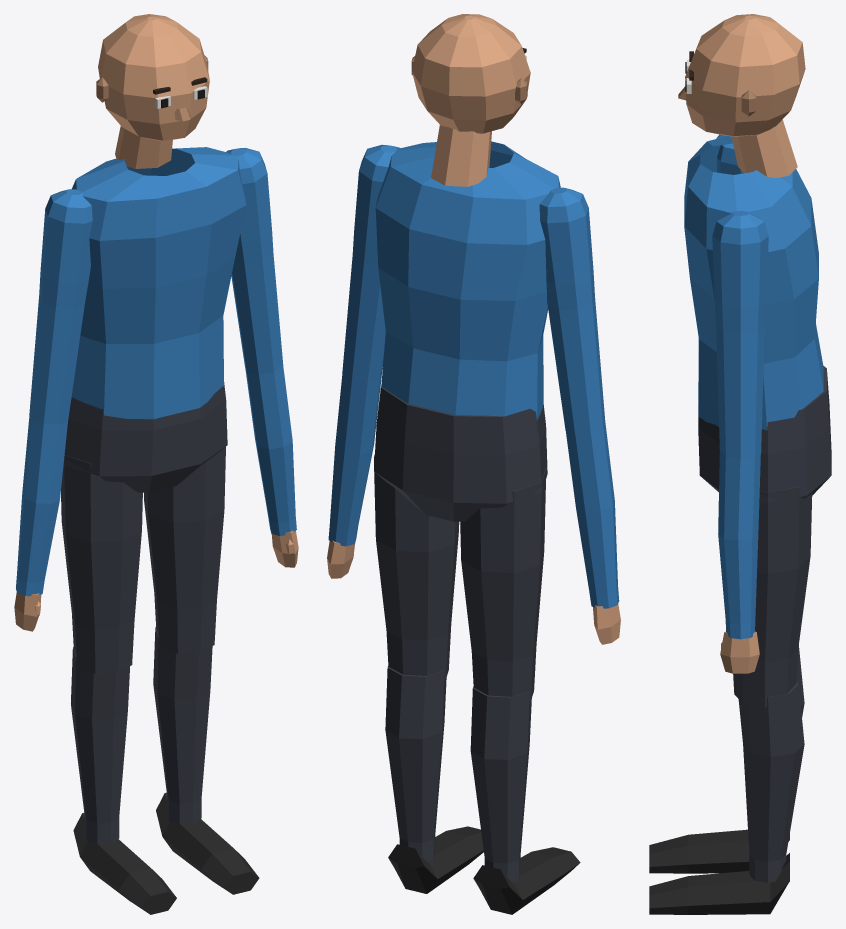
File: senior_h_moyen.glb
3 views of the same model, side by side, from view 1: azimuth 30°, elevation 25°; view 2: azimuth 150°, elevation 25°; view 3: azimuth 270°, elevation 25° (orthographic). The views are drawn at different scales.
Visible parts, largest first — view 1: torse, jambe_d, tete, jambe_g, tibia_d, tibia_g, bassin, bras_d, bras_g, avant_bras_d, avant_bras_g; view 2: torse, bassin, jambe_d, tete, tibia_d, tibia_g, jambe_g, bras_d, avant_bras_d, bras_g, avant_bras_g; view 3: torse, tibia_g, tete, bras_g, jambe_g, avant_bras_g, bassin, tibia_d, bras_d.
Part boxes in pixels (box(x1,y1,x2,y2)): torse: box(71, 147, 246, 419); jambe_d: box(61, 455, 142, 673); tete: box(96, 14, 209, 168); jambe_g: box(144, 447, 225, 653); tibia_d: box(71, 647, 176, 914); tibia_g: box(153, 627, 259, 894); bassin: box(63, 382, 227, 492); bras_d: box(29, 189, 92, 425); bras_g: box(226, 148, 283, 376); avant_bras_d: box(14, 418, 67, 631); avant_bras_g: box(245, 366, 298, 567); torse: box(375, 141, 560, 420); bassin: box(374, 386, 547, 521); jambe_d: box(460, 468, 546, 701); tete: box(411, 14, 530, 186); tibia_d: box(470, 686, 580, 914); tibia_g: box(385, 666, 483, 893); jambe_g: box(374, 454, 459, 680); bras_d: box(539, 187, 605, 434); avant_bras_d: box(566, 422, 620, 644); bras_g: box(342, 144, 400, 382); avant_bras_g: box(327, 371, 382, 578); torse: box(684, 136, 823, 430); tibia_g: box(649, 682, 804, 914); tete: box(678, 14, 805, 178); bras_g: box(712, 211, 768, 460); jambe_g: box(733, 486, 812, 707); avant_bras_g: box(718, 451, 760, 673); bassin: box(698, 366, 831, 503); tibia_d: box(649, 645, 804, 873); bras_d: box(716, 134, 743, 174).
Size of the model in its own units: 0.5792 by 1.69 by 0.3196.
Materials: 1 (1 with a texture image).
